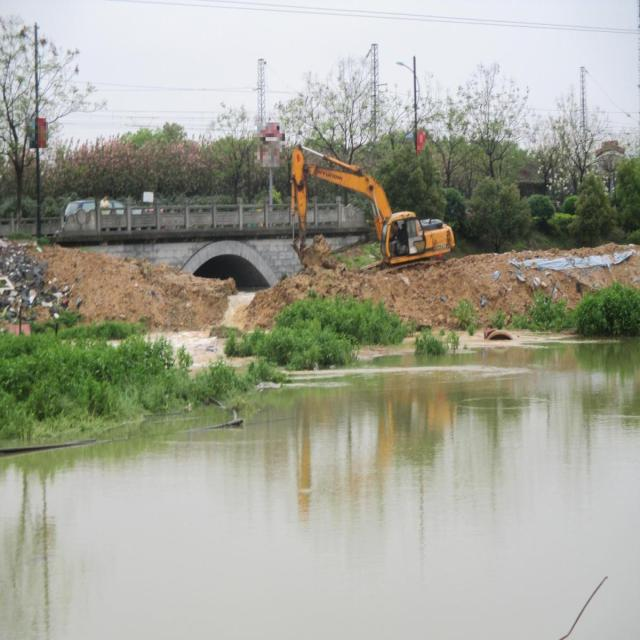excavator: (282, 138, 463, 284)
